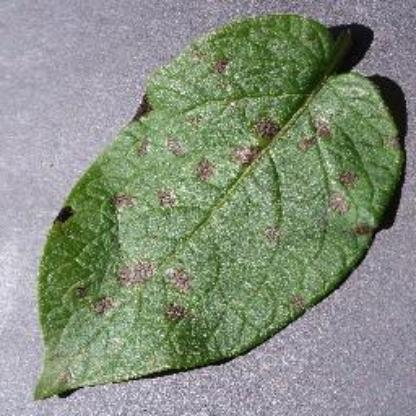Early-Blight: (35, 12, 403, 404)
